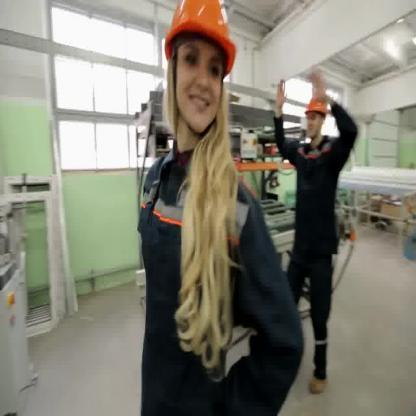helmet: (164, 0, 238, 76), (305, 97, 327, 117)
vest: (134, 138, 308, 415), (270, 100, 361, 370)
